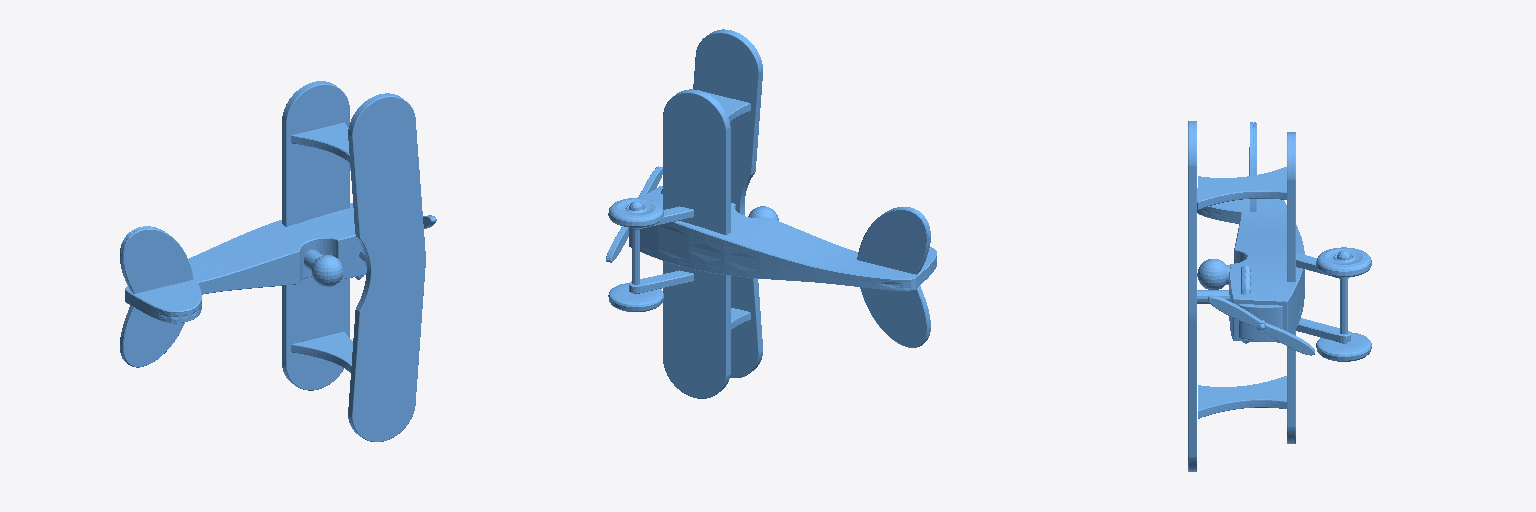
The model's file is toyplane3.obj.
The picture shows the model from 3 angles: view 1: azimuth 30°, elevation 25°; view 2: azimuth 150°, elevation 25°; view 3: azimuth 270°, elevation 25°; orthographic projection.
Parts seen in each view (by area): view 1: Object.1; view 2: Object.1; view 3: Object.1.
Part boxes in pixels (left/top/right/bottom): Object.1: left=120, top=81, right=436, bottom=441; Object.1: left=606, top=29, right=936, bottom=398; Object.1: left=1188, top=121, right=1371, bottom=471.
Bounding box in the file's own units: 37.18 × 41.29 × 19.98.